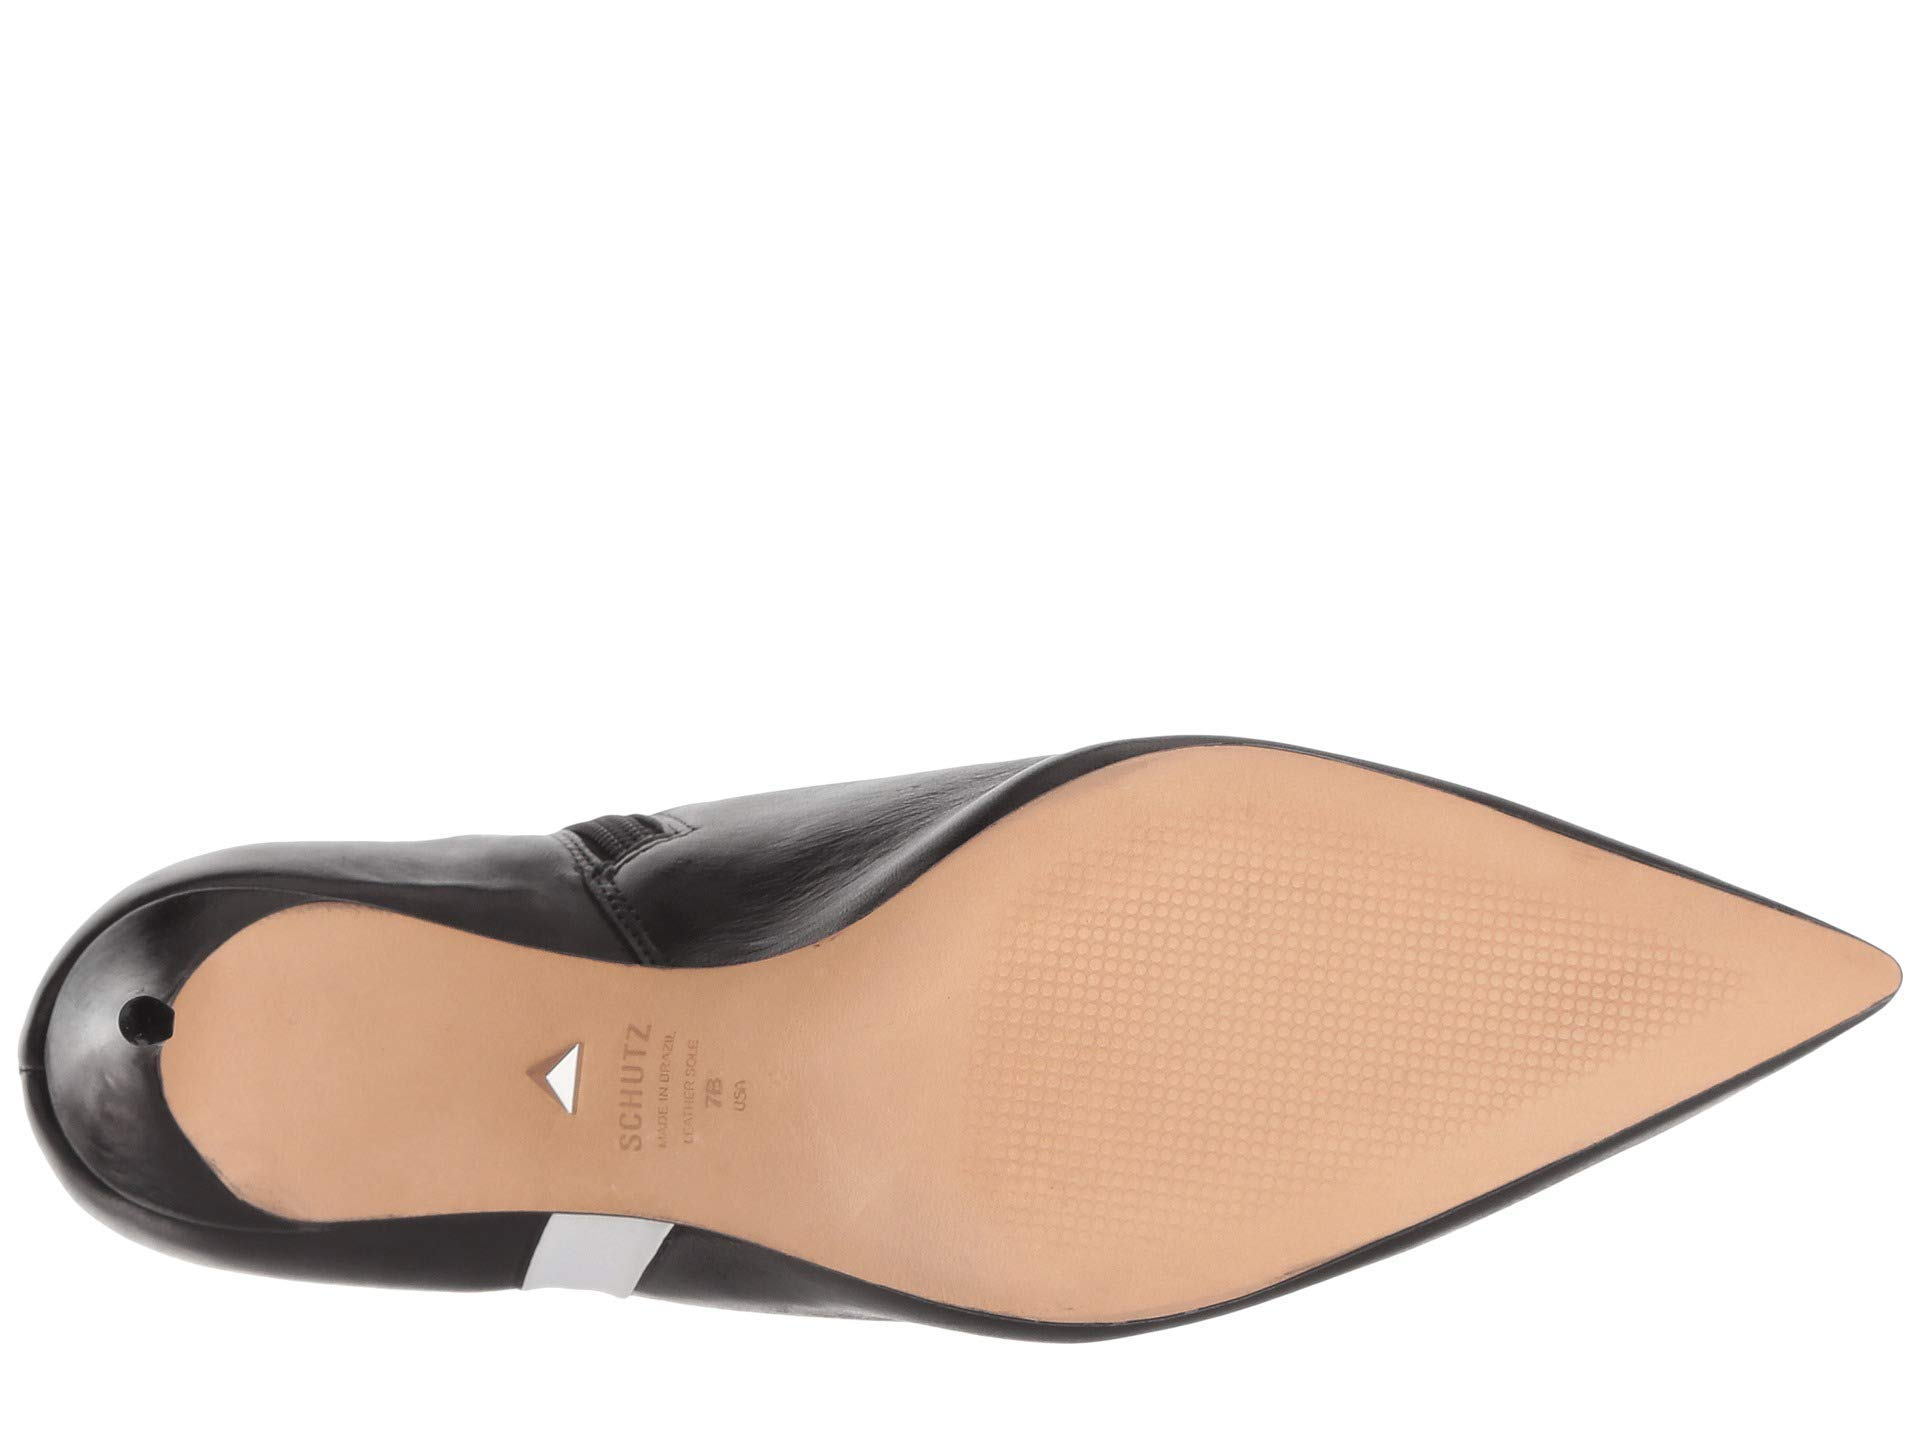circle: (110, 976, 186, 1054)
exclude: (432, 830, 895, 1263)
line: (1030, 824, 1541, 1112)
quad: (1030, 824, 1541, 1112)
